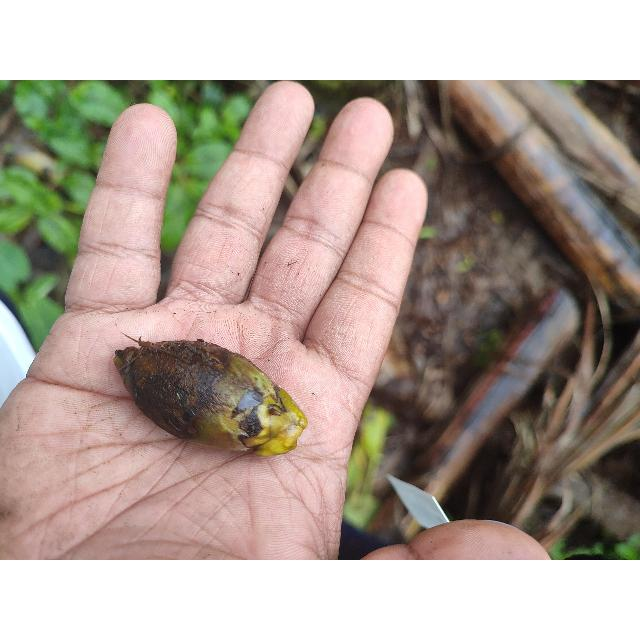damaged: (111, 341, 309, 459)
